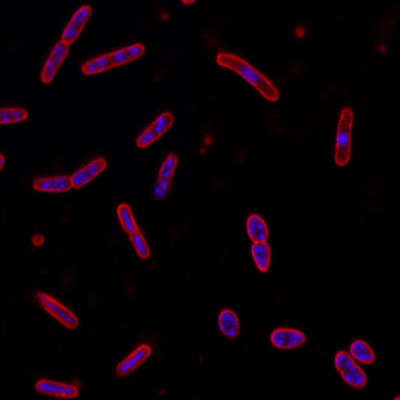Control: (39, 3, 93, 85), (30, 156, 107, 194), (80, 41, 145, 77), (134, 111, 174, 150)
Mecillinam: (245, 211, 273, 273), (332, 349, 367, 388), (268, 328, 307, 350), (216, 308, 242, 338), (350, 339, 375, 365)
Nalidixate: (216, 51, 280, 102), (332, 105, 356, 166)
Oblique: (30, 291, 79, 330), (149, 152, 179, 202)
Rifampicin: (114, 204, 151, 259), (114, 343, 152, 379), (33, 377, 79, 399)
Vesicle: (29, 231, 44, 248), (292, 24, 306, 39), (378, 43, 389, 55), (202, 134, 212, 147), (158, 10, 169, 21)
